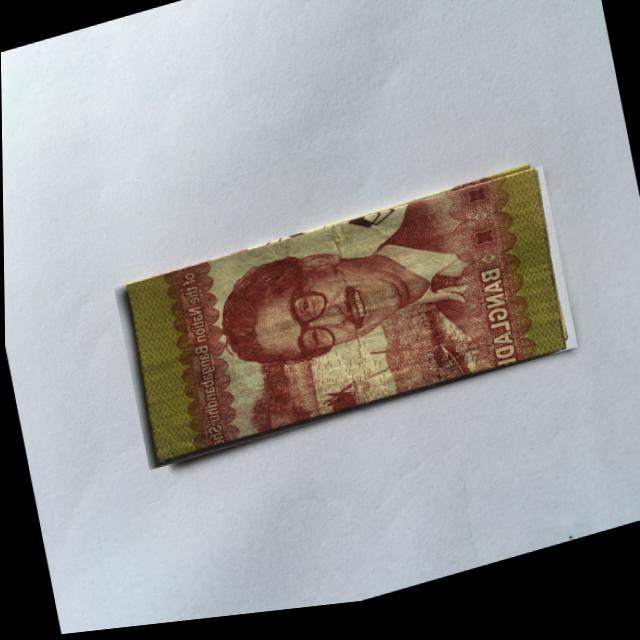Taka: (112, 175, 577, 476)
